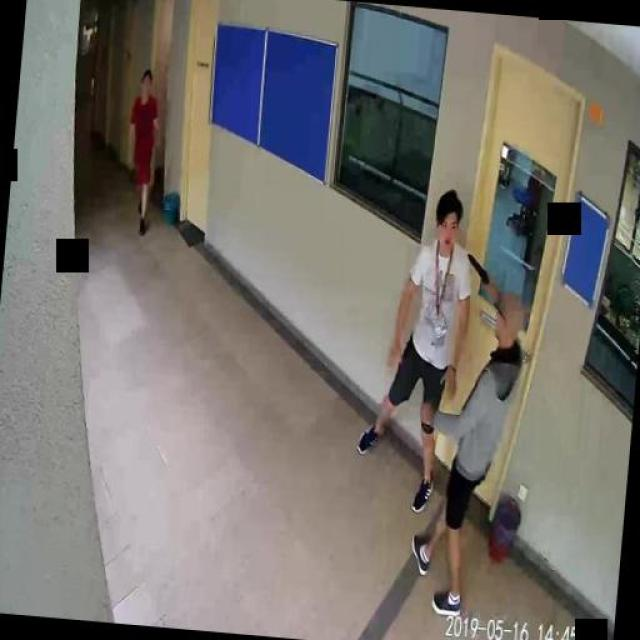gun: (463, 252, 492, 290)
